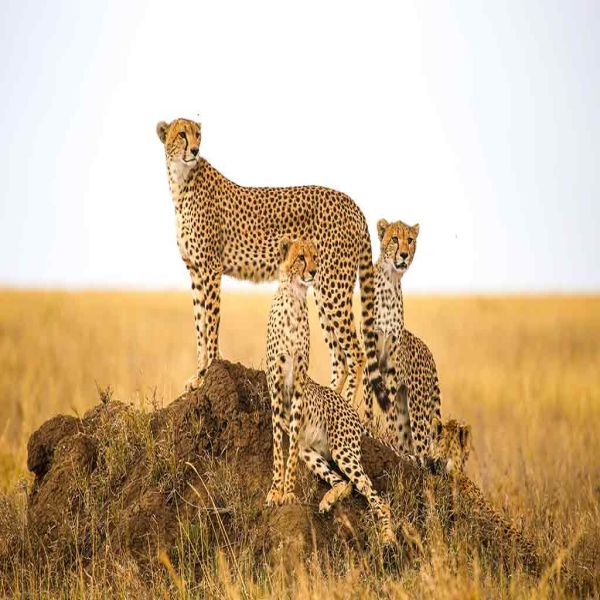Cheetah: (154, 114, 395, 416), (262, 236, 389, 529), (371, 216, 446, 472)
